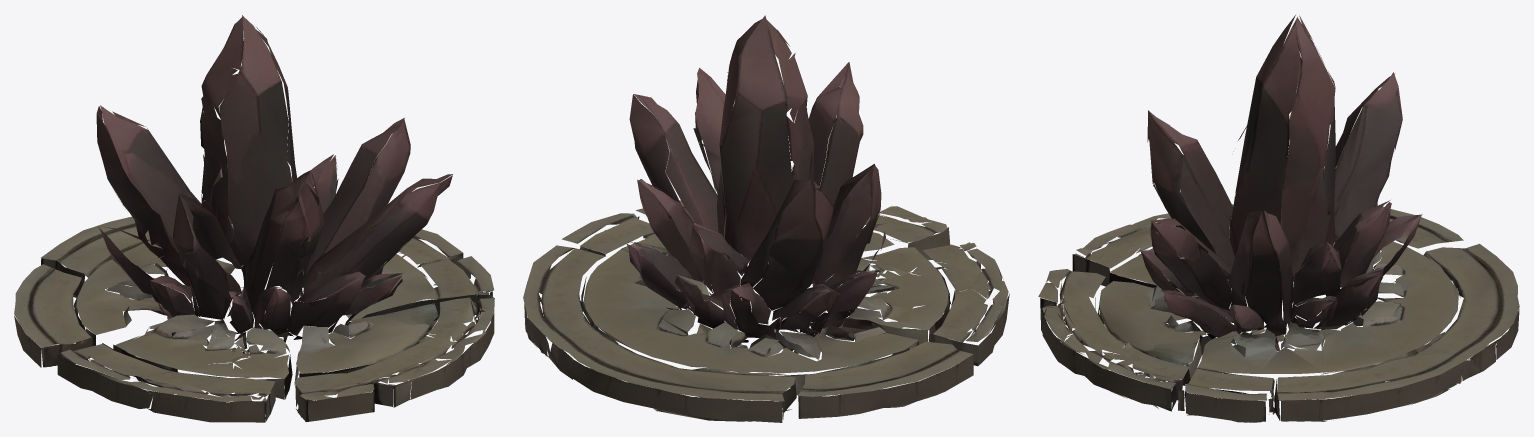
File: interactiveBloodstone.glb
The picture shows the model from 3 angles, left to right: view 1: azimuth 30°, elevation 25°; view 2: azimuth 150°, elevation 25°; view 3: azimuth 270°, elevation 25°; orthographic projection. The views are drawn at different scales.
Parts seen in each view (by area): view 1: Prop_interactiveBloodstone; view 2: Prop_interactiveBloodstone; view 3: Prop_interactiveBloodstone.
Boxes of the visible parts, left/top/right/bottom form: Prop_interactiveBloodstone: left=14, top=15, right=494, bottom=422; Prop_interactiveBloodstone: left=523, top=15, right=1009, bottom=422; Prop_interactiveBloodstone: left=1038, top=15, right=1519, bottom=422.
Size of the model in its own units: 3.97 by 2.84 by 3.99.
1 material, 1 textured.
